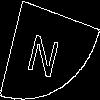N: (25, 25, 64, 79)
